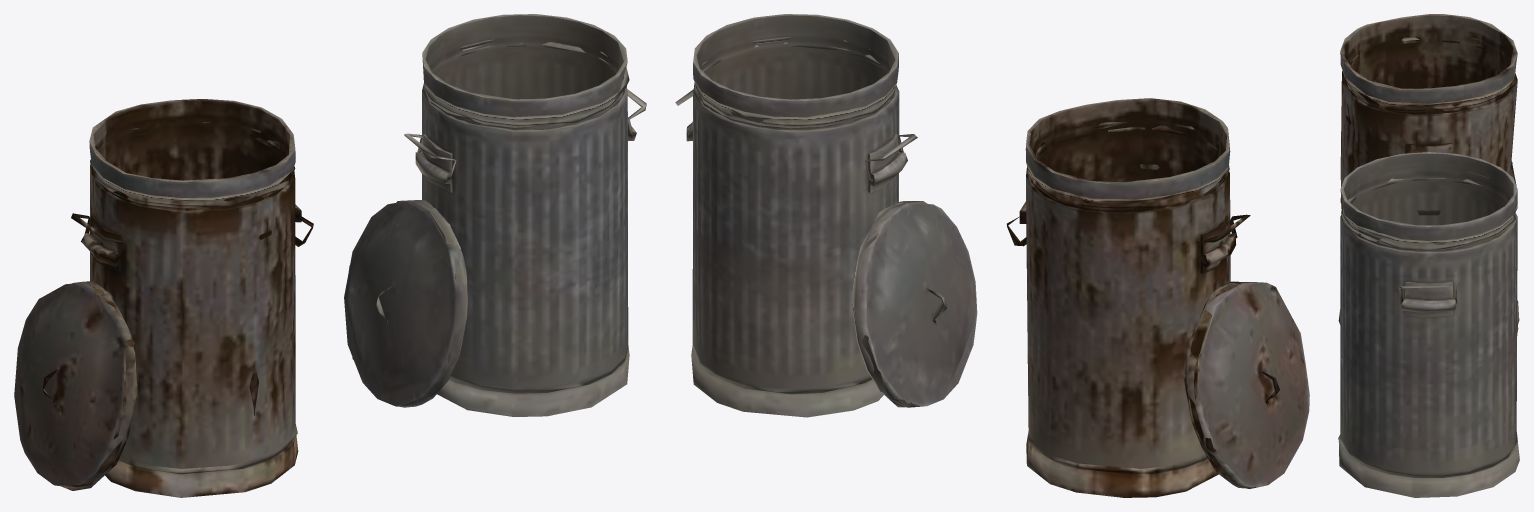
The model's file is metal_trash_can.glb.
3 renders of one model, left to right at view 1: azimuth 30°, elevation 25°; view 2: azimuth 150°, elevation 25°; view 3: azimuth 270°, elevation 25°, orthographic. The views are drawn at different scales.
Parts seen in each view (by area): view 1: metal_trash_can_handle_left, metal_trash_can_rust; view 2: metal_trash_can_handle_left, metal_trash_can_rust; view 3: metal_trash_can_handle_left, metal_trash_can_rust.
Part boxes in pixels (bbox=[...]): metal_trash_can_handle_left: bbox=[344, 14, 646, 416]; metal_trash_can_rust: bbox=[14, 99, 313, 497]; metal_trash_can_handle_left: bbox=[675, 14, 977, 417]; metal_trash_can_rust: bbox=[1006, 98, 1309, 497]; metal_trash_can_handle_left: bbox=[1338, 152, 1519, 497]; metal_trash_can_rust: bbox=[1338, 14, 1519, 324].
Size of the model in its own units: 1.78 by 0.9062 by 0.5519.
Materials: 2 (2 with a texture image).
